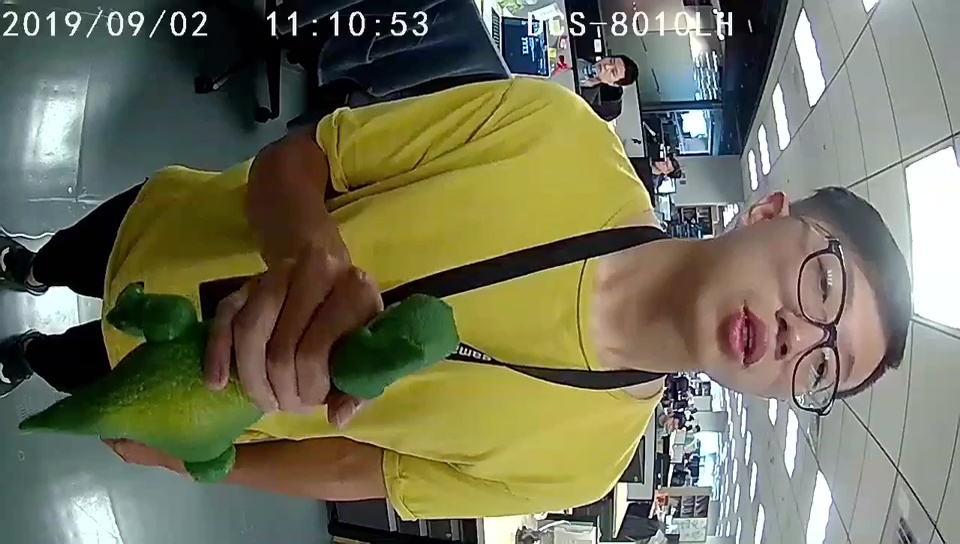rex: (132, 293, 460, 484)
